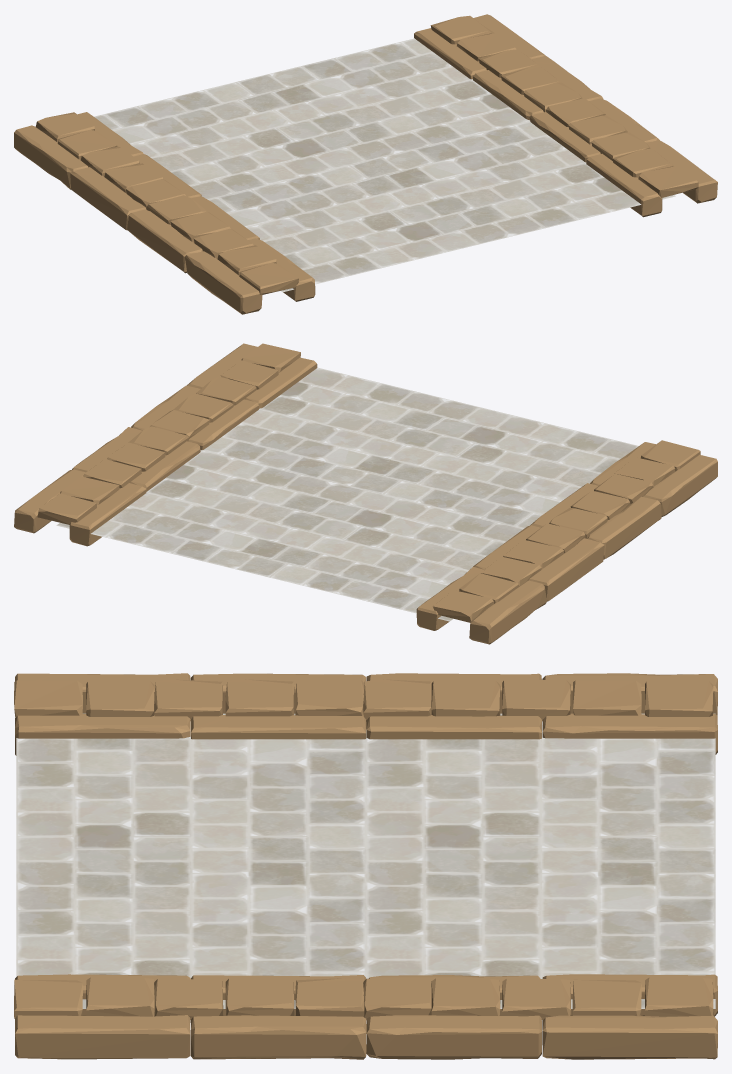
The model's file is SM_curbstones_02.fbx.
3 views of the same model, one above another, from view 1: azimuth 30°, elevation 25°; view 2: azimuth 150°, elevation 25°; view 3: azimuth 270°, elevation 25° (orthographic). The views are drawn at different scales.
Visible parts, largest first — view 1: Object33208; view 2: Object33208; view 3: Object33208.
Boxes of the visible parts, box(x1,y1,x2,y2) form: Object33208: box(14, 14, 717, 314); Object33208: box(14, 343, 717, 644); Object33208: box(14, 673, 717, 1059).
Size of the model in its own units: 249 by 12.33 by 207.
